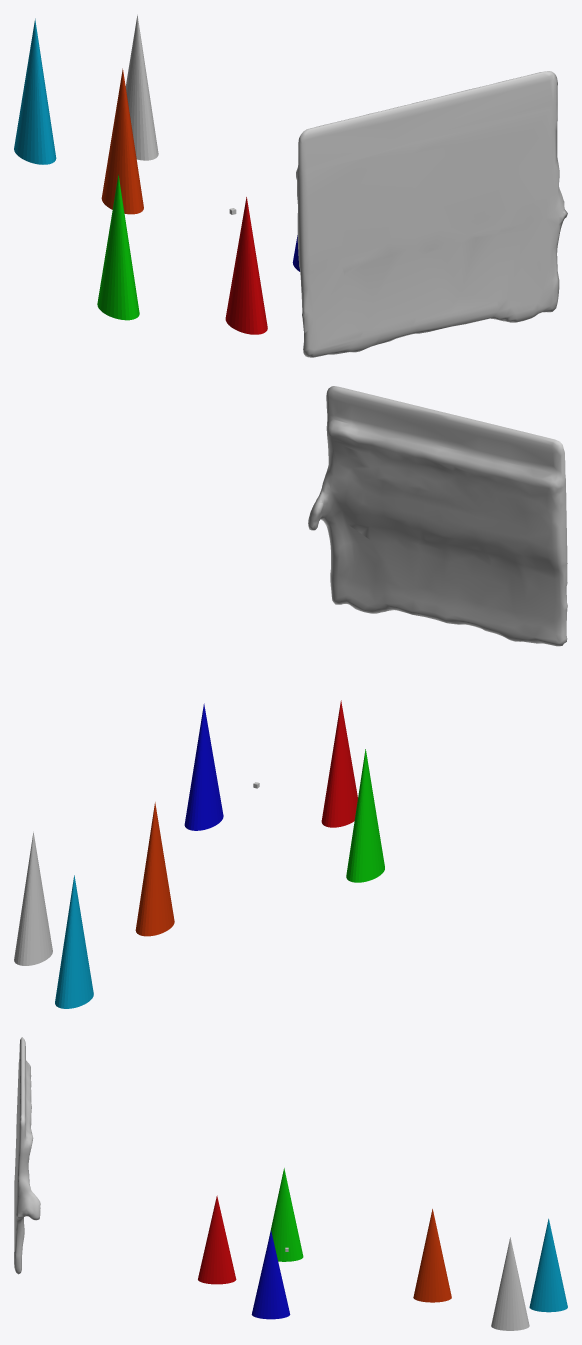
3 views of the same model, one above another, from view 1: azimuth 30°, elevation 25°; view 2: azimuth 150°, elevation 25°; view 3: azimuth 270°, elevation 25° (orthographic). The views are drawn at different scales.
Parts seen in each view (by area): view 1: Liquid_Domain, 円錐.003, 円錐.005, 円錐.001, 円錐.004, 円錐; view 2: Liquid_Domain, 円錐.004, 円錐.003, 円錐.005, 円錐, 円錐.002, 円錐.001; view 3: Liquid_Domain, 円錐.004, 円錐.005, 円錐, 円錐.002, 円錐.001, 円錐.003.
Boxes of the visible parts, left/top/right/bottom form: Liquid_Domain: left=296, top=71, right=567, bottom=357; 円錐.003: left=97, top=174, right=139, bottom=320; 円錐.005: left=14, top=18, right=56, bottom=164; 円錐.001: left=225, top=197, right=267, bottom=334; 円錐.004: left=101, top=68, right=143, bottom=214; 円錐: left=125, top=14, right=158, bottom=160; Liquid_Domain: left=308, top=386, right=567, bottom=646; 円錐.004: left=135, top=802, right=174, bottom=936; 円錐.003: left=346, top=749, right=384, bottom=882; 円錐.005: left=55, top=875, right=93, bottom=1008; 円錐: left=14, top=831, right=52, bottom=965; 円錐.002: left=184, top=703, right=223, bottom=830; 円錐.001: left=321, top=700, right=357, bottom=827; Liquid_Domain: left=14, top=1037, right=40, bottom=1274; 円錐.004: left=413, top=1209, right=451, bottom=1302; 円錐.005: left=529, top=1218, right=567, bottom=1312; 円錐: left=491, top=1237, right=529, bottom=1330; 円錐.002: left=251, top=1230, right=290, bottom=1319; 円錐.001: left=198, top=1195, right=236, bottom=1284; 円錐.003: left=269, top=1168, right=303, bottom=1261.
Bounding box in the file's own units: 128 × 158 × 345.
